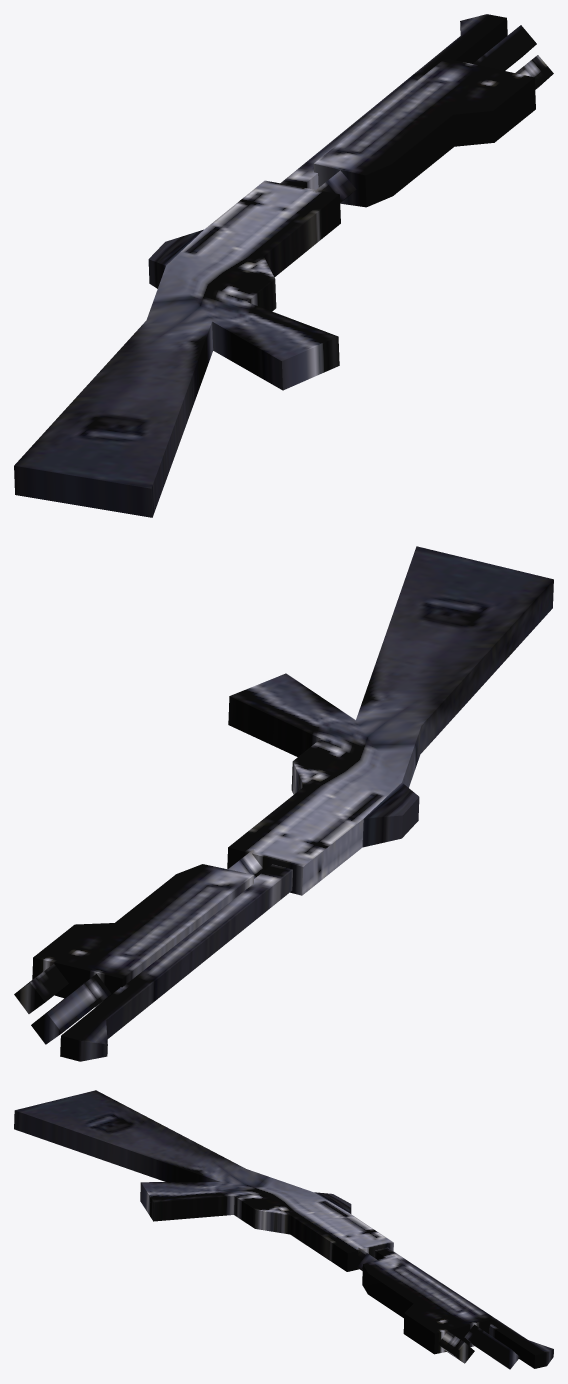
The model's file is m3-drop.glb.
The picture shows the model from 3 angles, top to bottom: view 1: azimuth 30°, elevation 25°; view 2: azimuth 210°, elevation 25°; view 3: azimuth 270°, elevation 25°; orthographic projection. The views are drawn at different scales.
Visible parts, largest first — view 1: m3 dropped.001; view 2: m3 dropped.001; view 3: m3 dropped.001.
Boxes of the visible parts, box(x1,y1,x2,y2) form: m3 dropped.001: box(14, 14, 553, 517); m3 dropped.001: box(14, 546, 553, 1061); m3 dropped.001: box(14, 1090, 553, 1369).
Size of the model in its own units: 0.7311 by 0.0327 by 0.633.
Materials: 1 (1 with a texture image).
